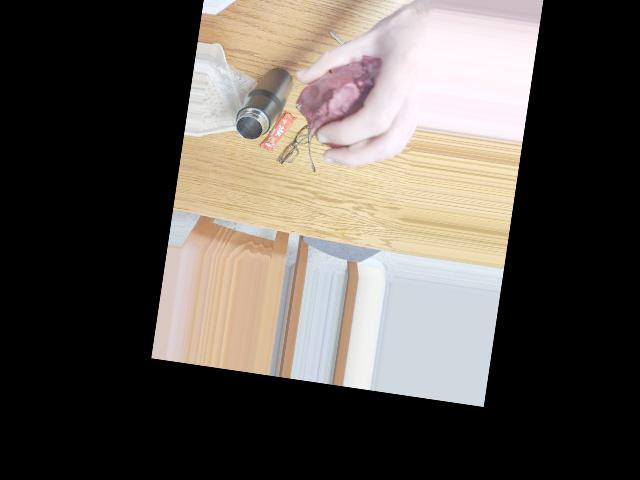onion: (300, 47, 384, 146)
